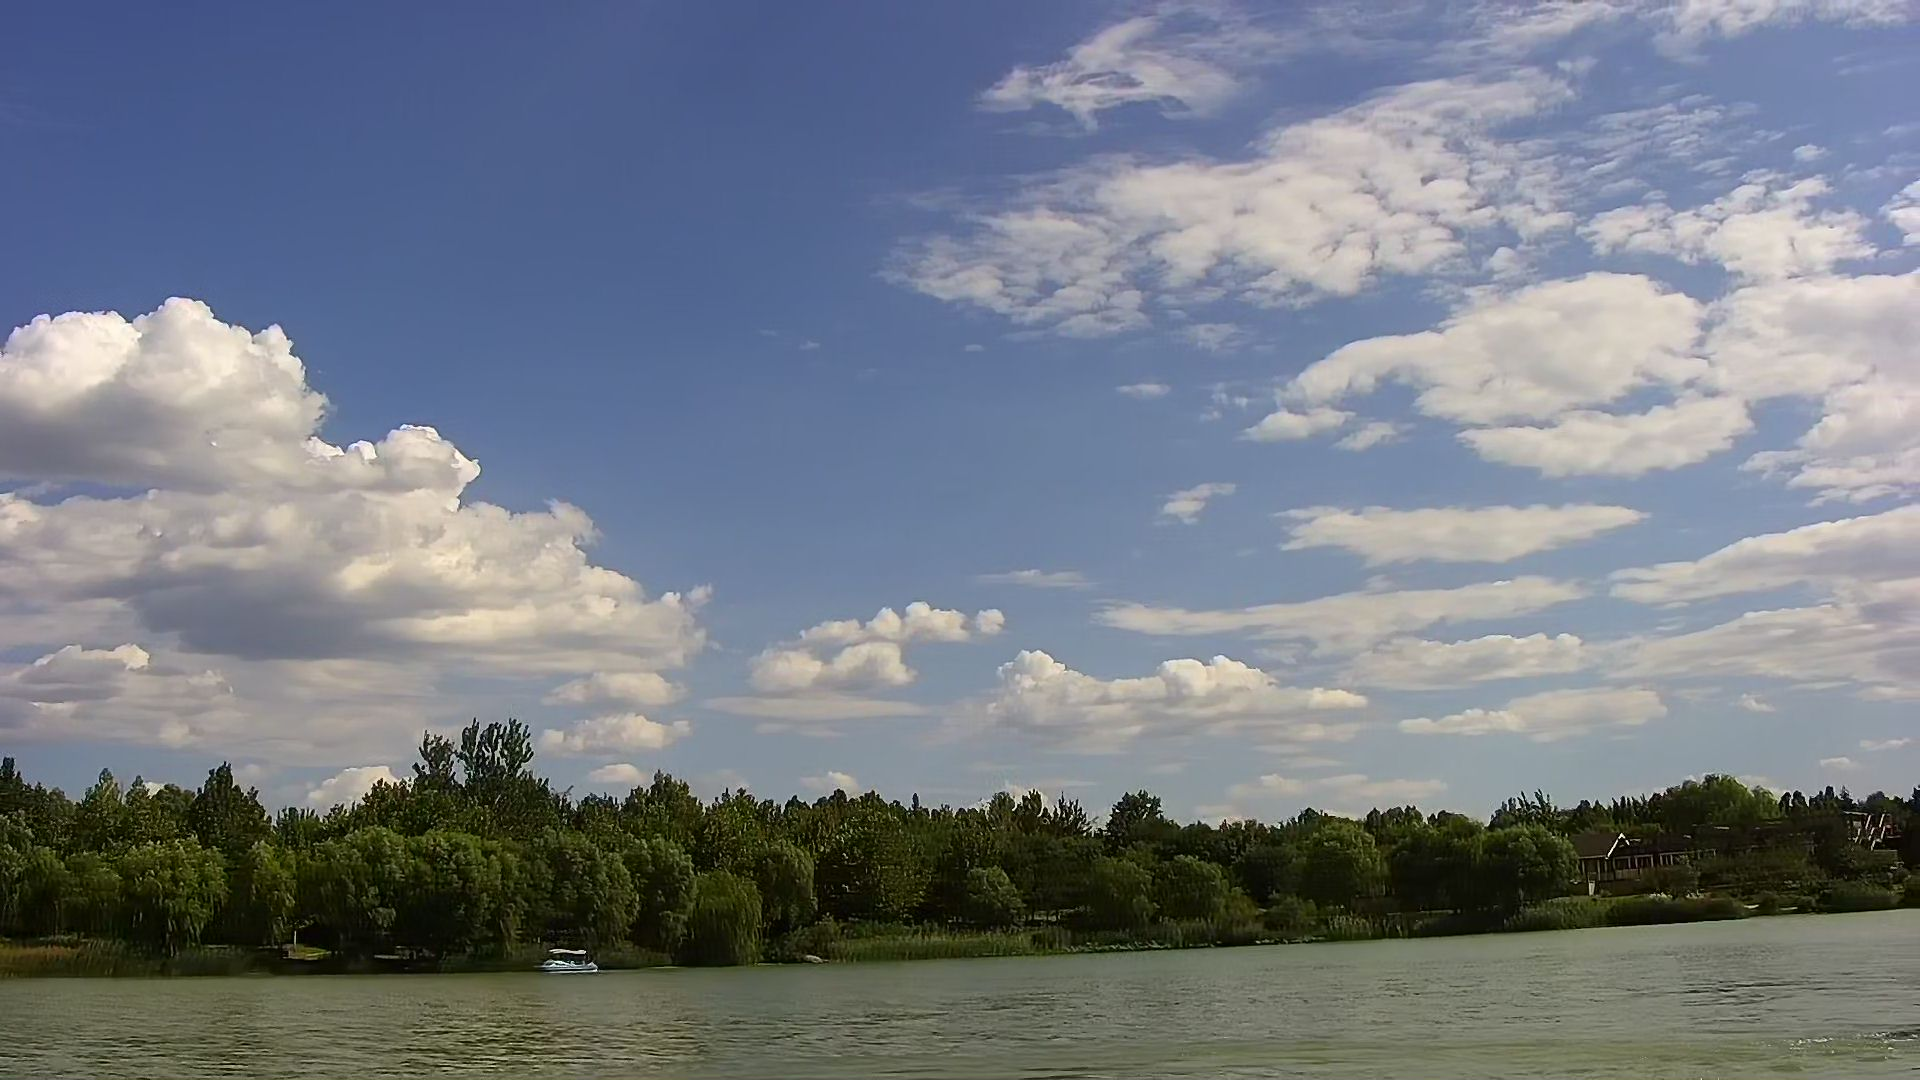boat: (534, 948, 603, 978)
